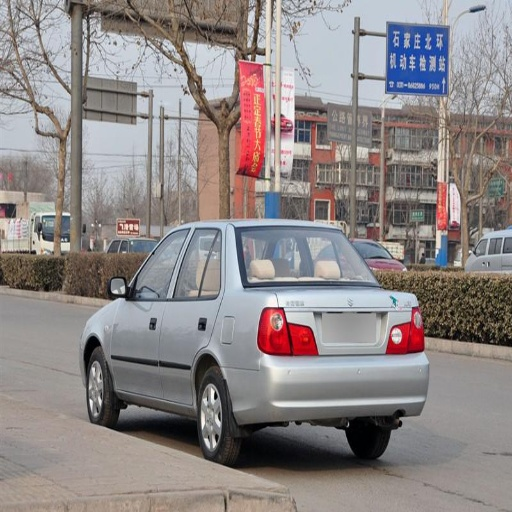back_bumper: (233, 351, 429, 423)
back_glass: (243, 227, 367, 279)
back_left_door: (163, 228, 224, 404)
tailgate: (276, 278, 409, 357)
